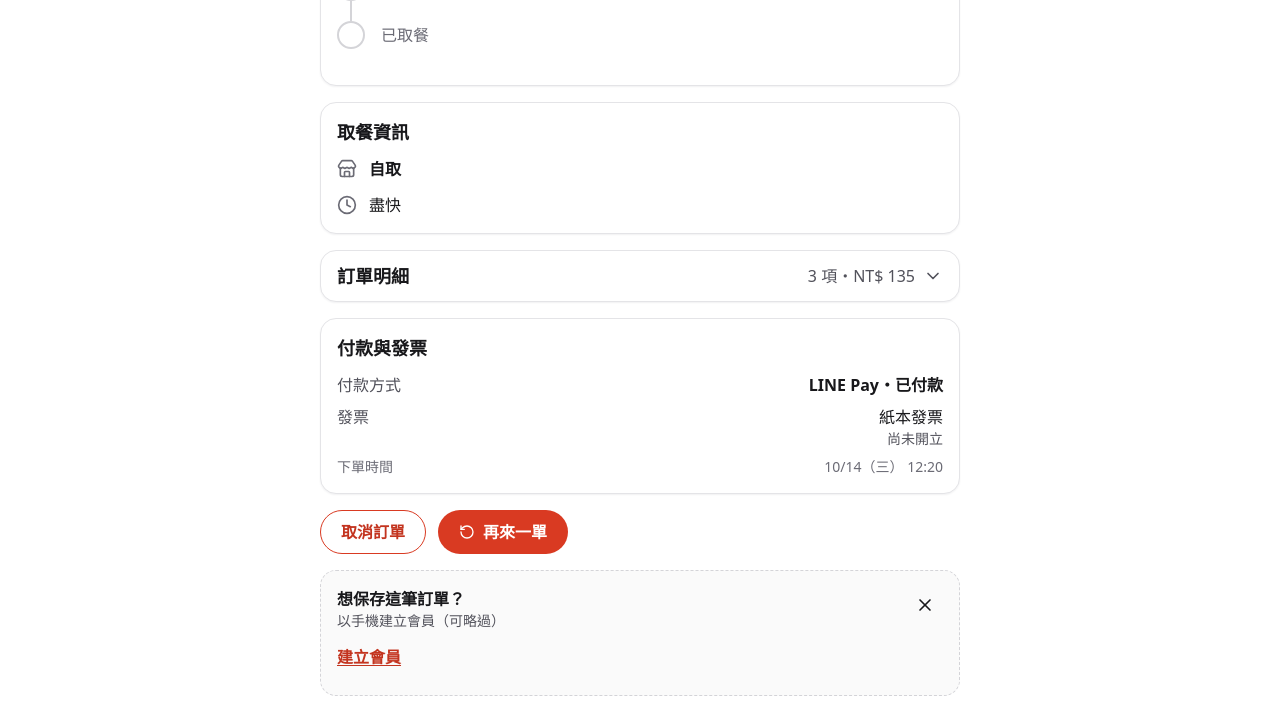
Test case: OrderPage：取消訂單 › 已付款訂單的確認說明款項會退回
The width and height of the screenshot is (1280, 720).
(page scrolled)
What coordinates should you click on to do the following:
click the button "取消訂單"
I would click on:
 (373, 532)
Its box is x1=320 y1=510 x2=426 y2=554.
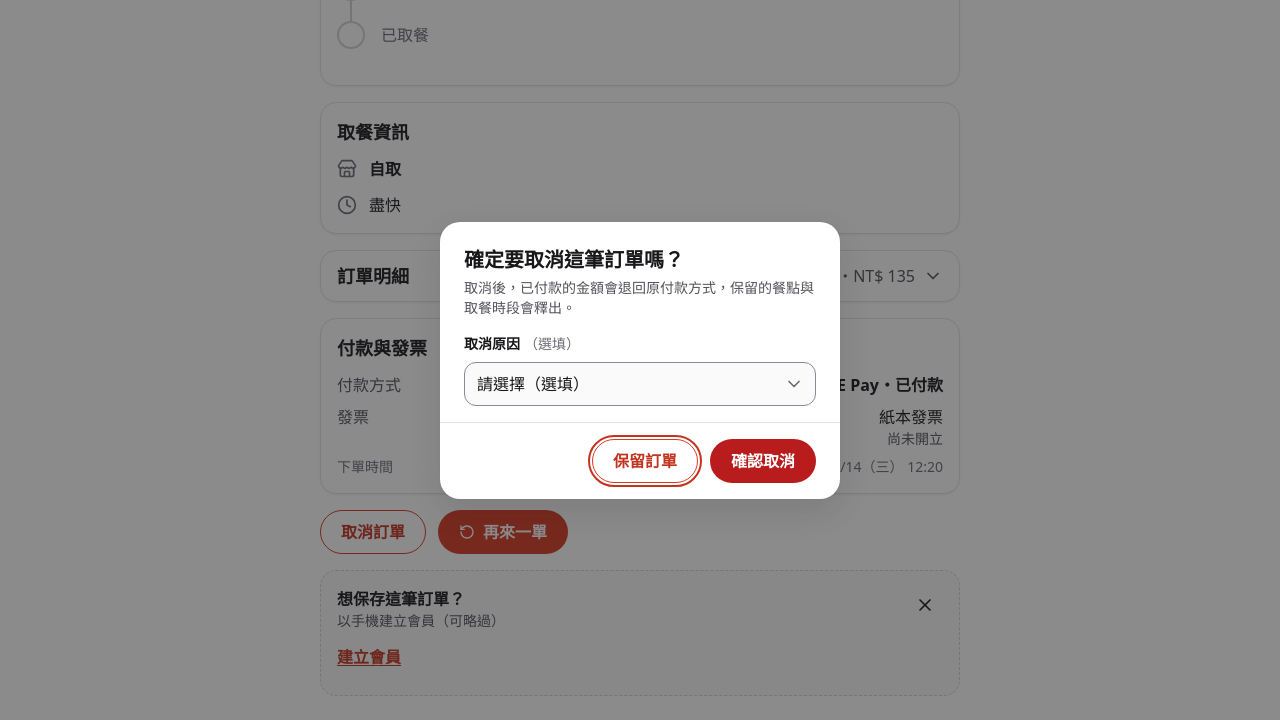
Expected: the text "取消後，已付款的金額會退回原付款方式，保留的餐點與取餐時段會釋出。" is shown, x1=464 y1=278 x2=816 y2=318
